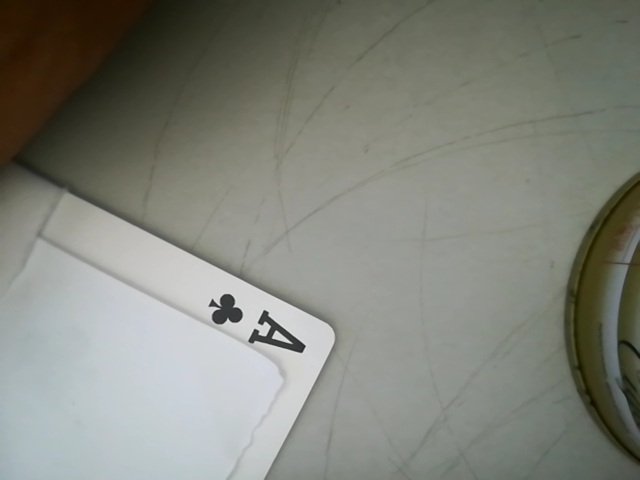mh a: (196, 284, 324, 358)
